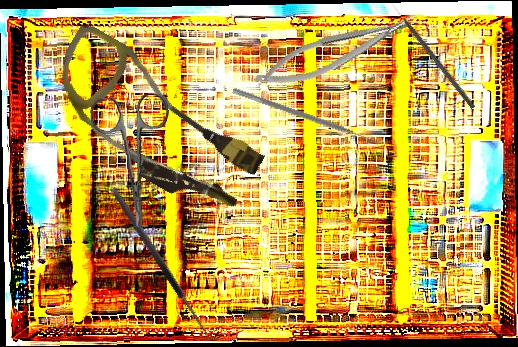Cannula: (30, 20, 279, 226)
Hook Surgical: (108, 181, 224, 346), (389, 1, 477, 110)
Iris Scissors: (88, 93, 177, 230)
Needle Holder: (250, 7, 425, 96)
Spatula Surgical: (230, 87, 373, 147)
